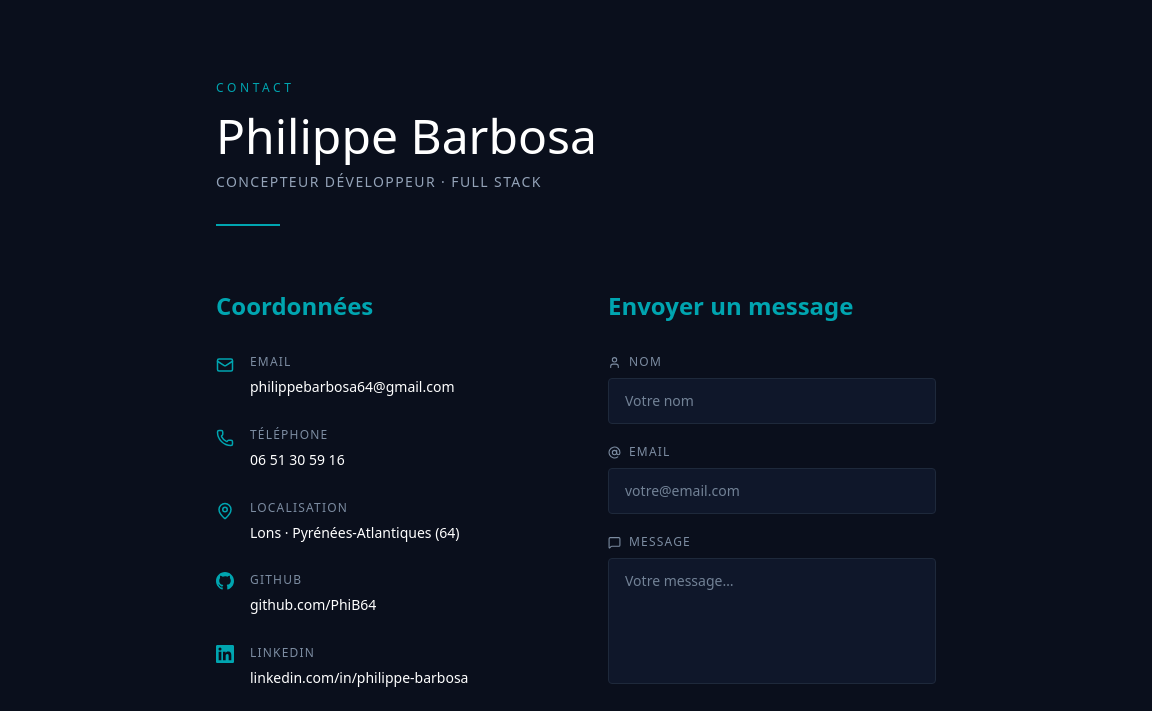
Scenario: envoi › efface l'erreur dès la frappe suivante
Type "Camille Dupont" into the field labelled "Nom" at (772, 401), box [608,378,936,424]
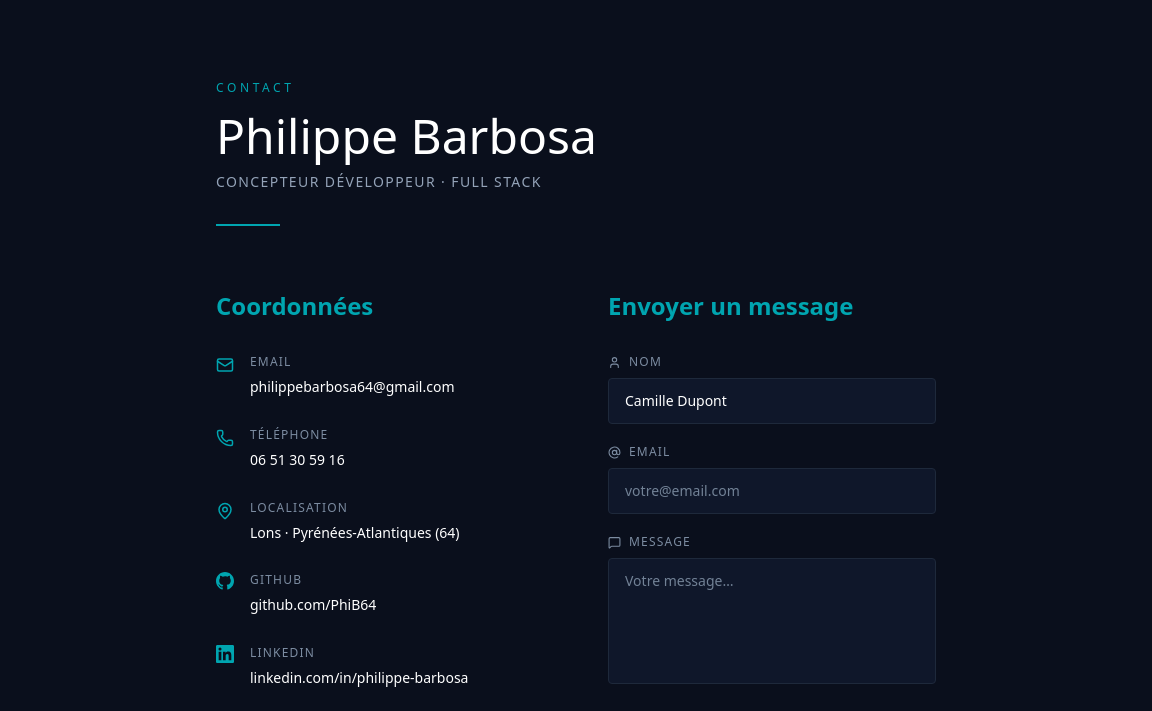
Type "a@b" into the field labelled "Email" at (772, 491), box [608,468,936,514]
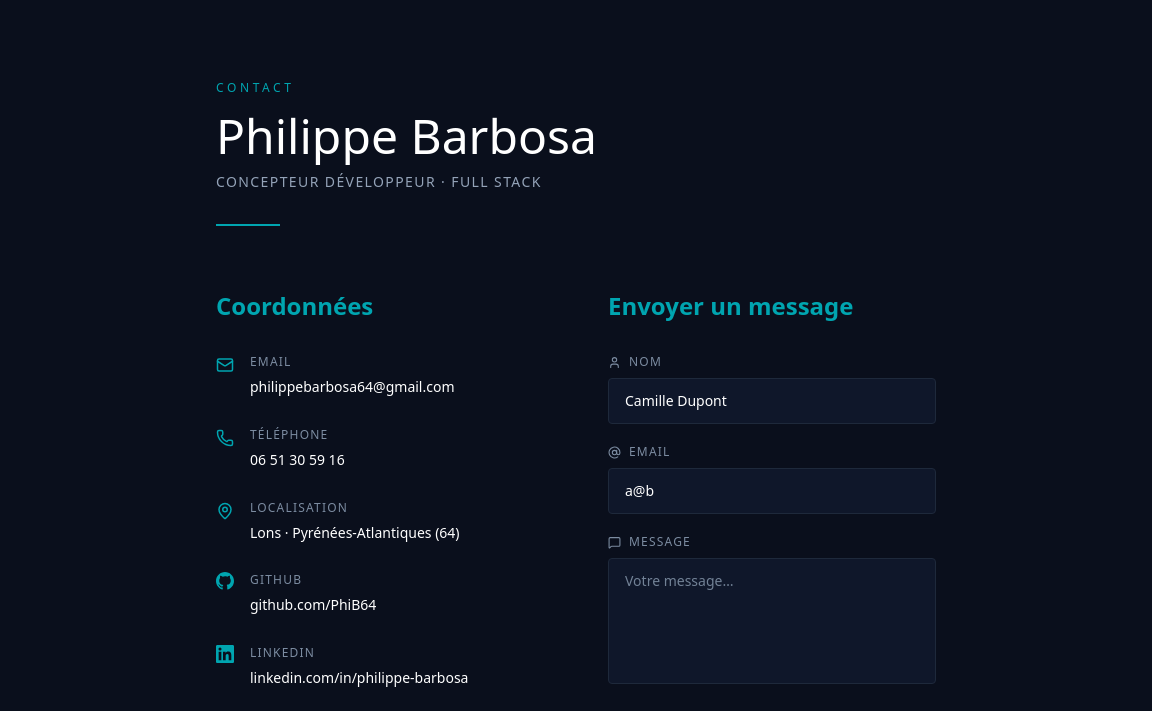
Type "Bonjour, je vous écris au sujet de votre portfolio." into the text box labelled "Message" at (772, 621), box [608,558,936,684]
Wait 3000 ms
(page scrolled)
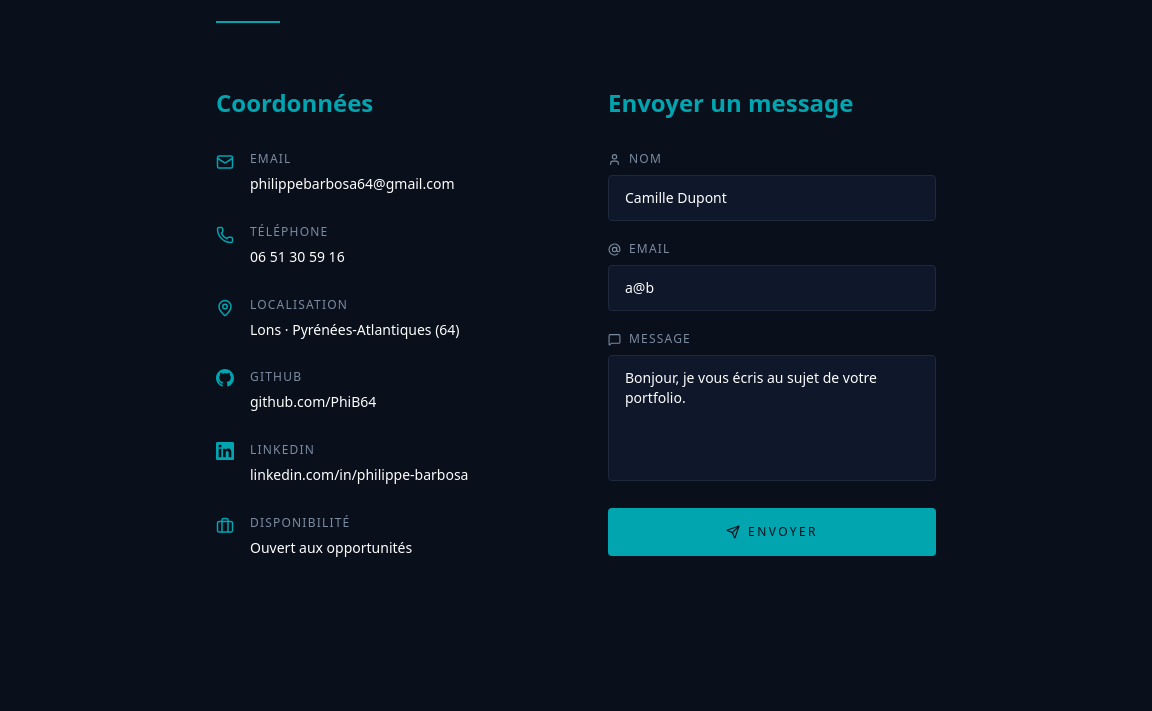
Click the button "Envoyer" at (772, 532), box [608,508,936,556]
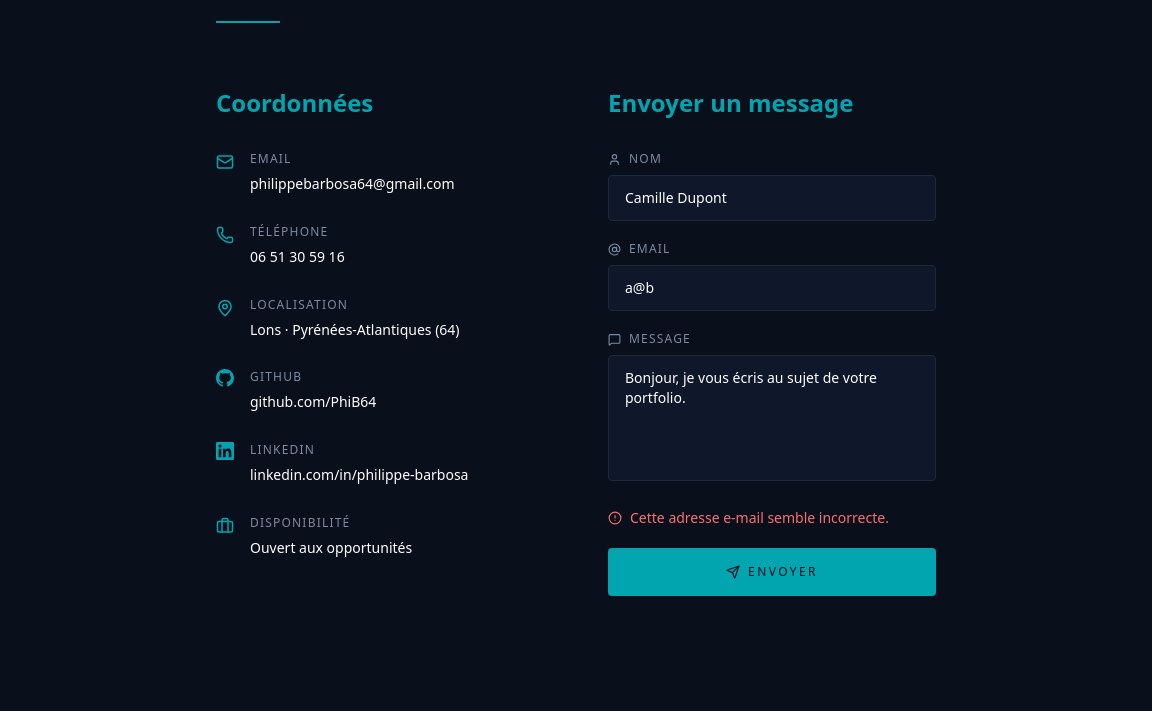
Result: the message "Cette adresse e-mail semble incorrecte." is shown at [608,508,936,528]
Replace the text in the field labelled "Email" with "camille@example.org" at (772, 288), box [608,265,936,311]
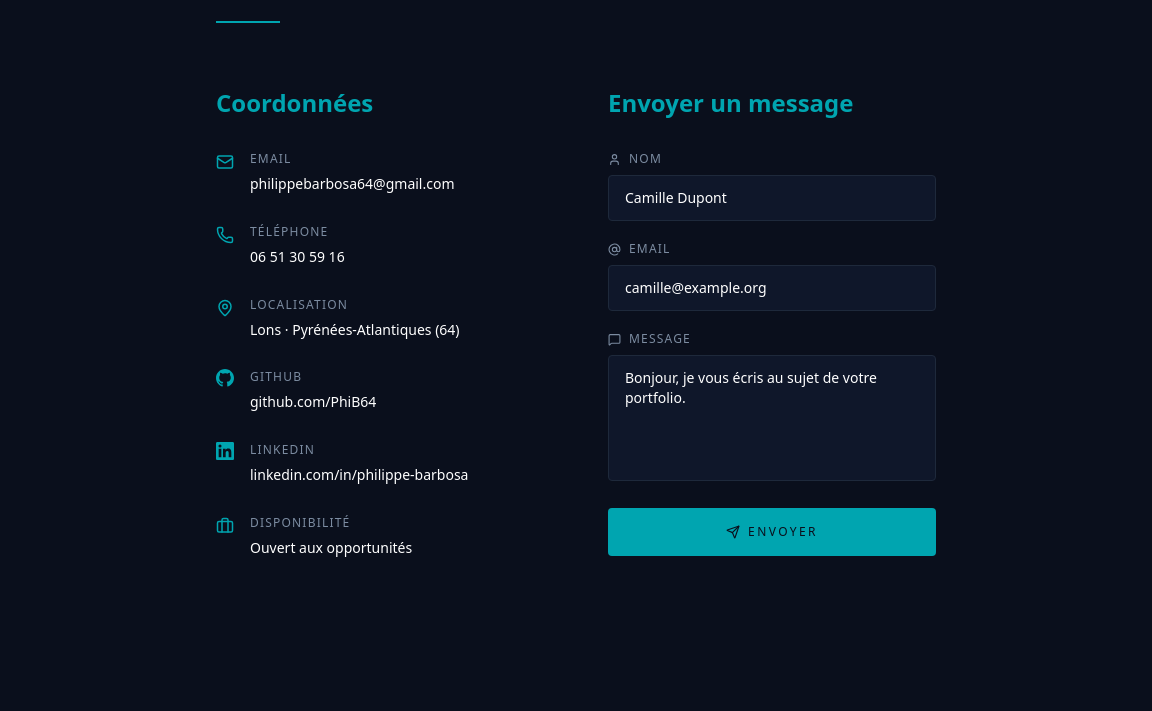
Result: the message "Cette adresse e-mail semble incorrecte." is gone
